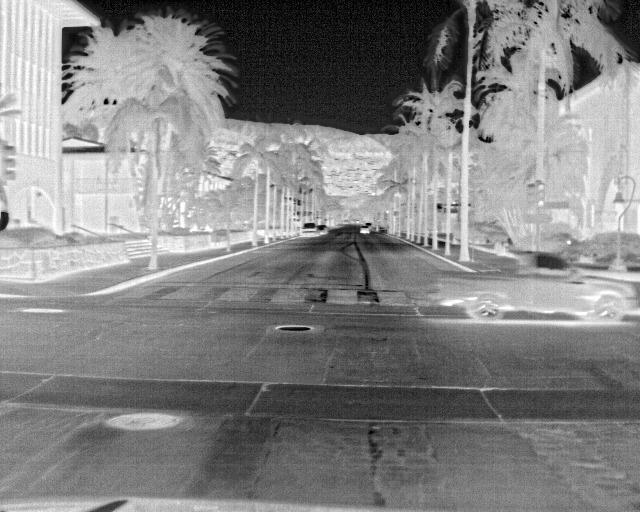car: (429, 250, 637, 319), (300, 223, 318, 237), (316, 223, 329, 236), (357, 225, 370, 235)
